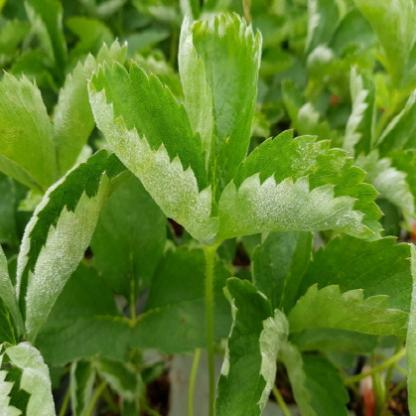Strawberry_Powdery_Mildew_Leaf: (86, 59, 222, 249), (13, 147, 134, 342), (212, 128, 387, 251), (176, 10, 265, 214), (52, 38, 130, 182), (212, 277, 291, 415), (1, 341, 57, 415)
